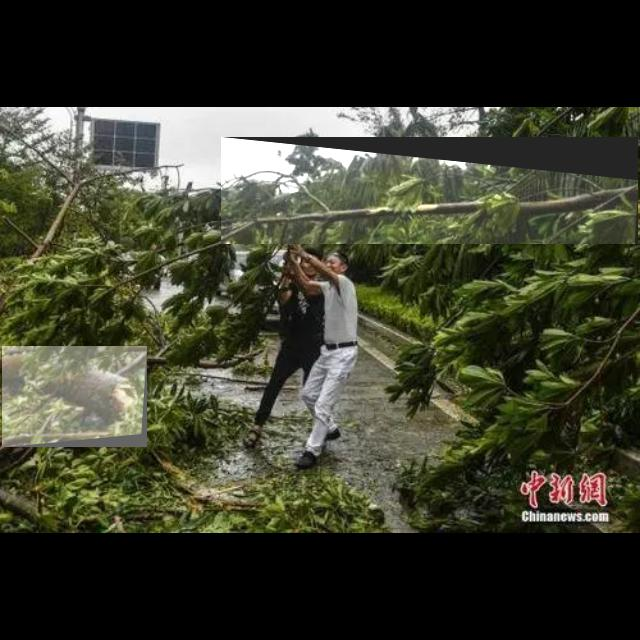Fallen Tree: (221, 137, 639, 245), (2, 346, 148, 448)
